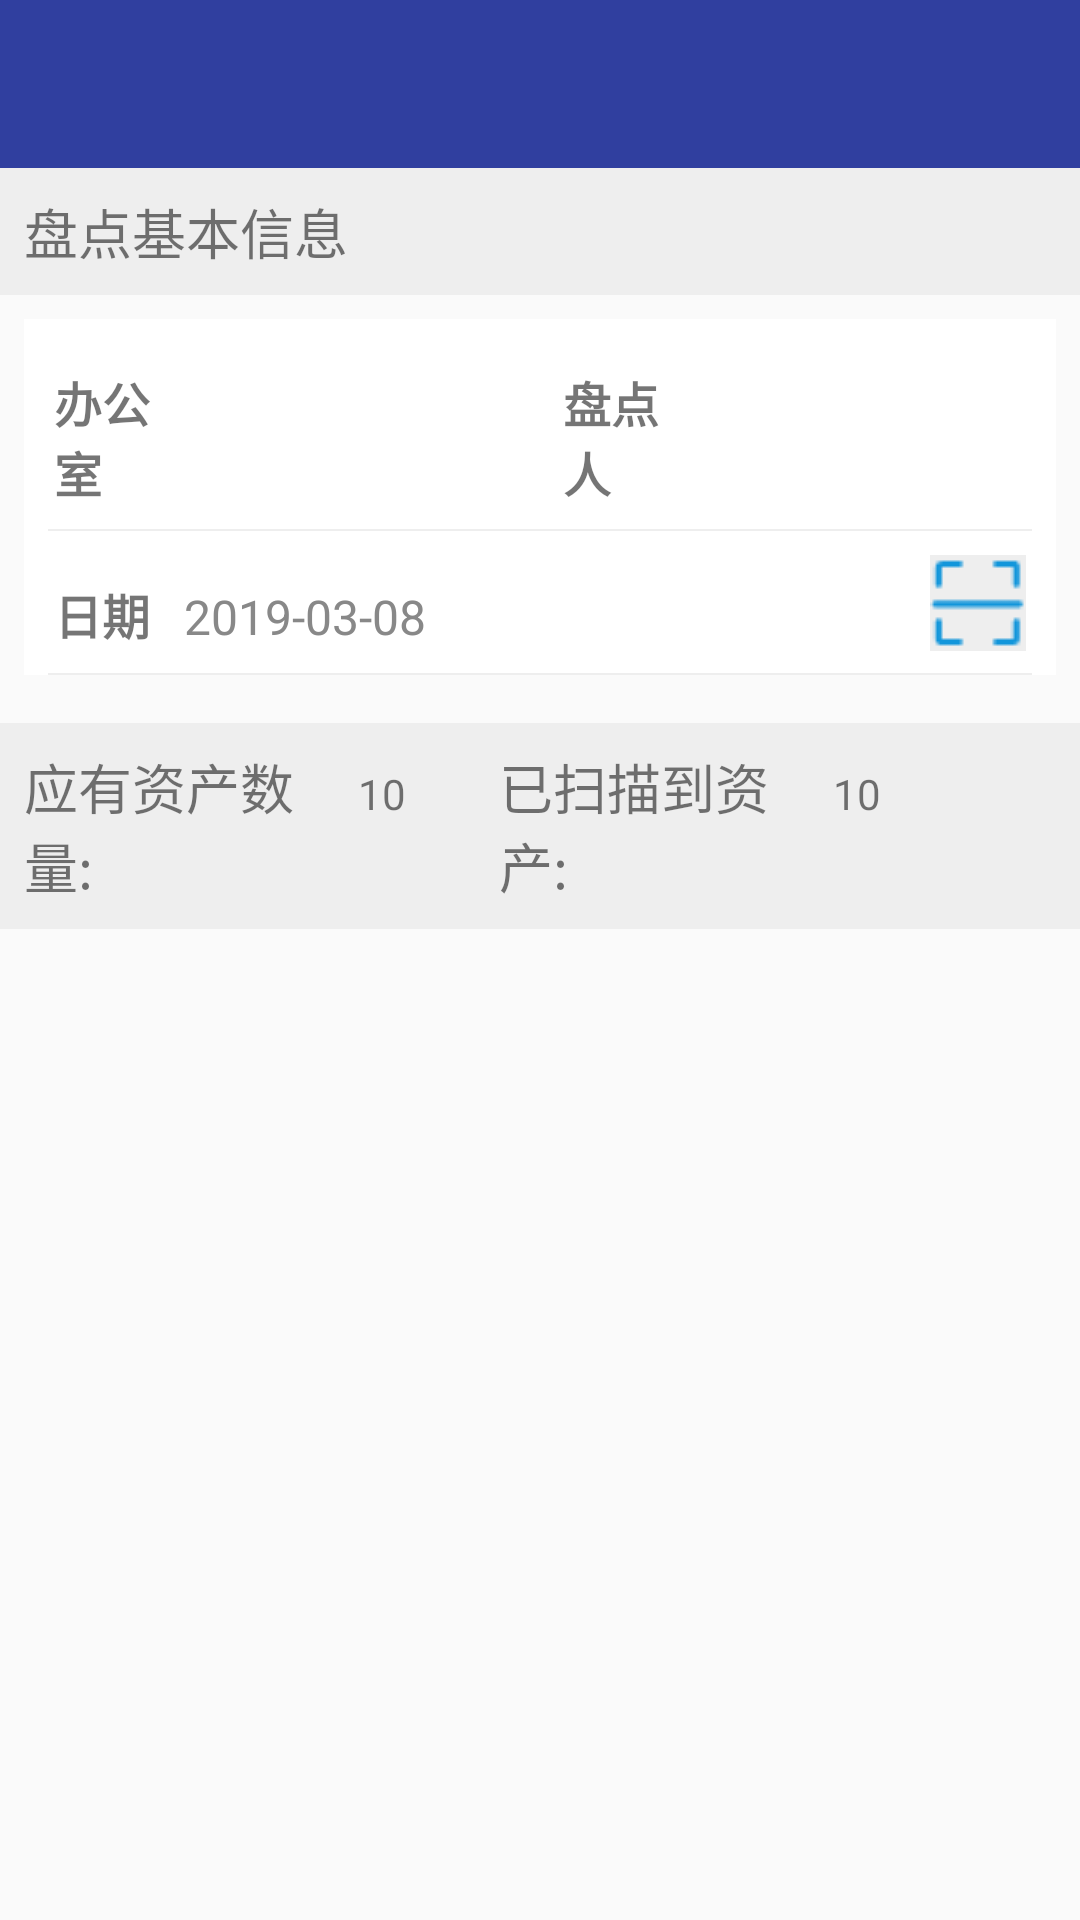

Icons on this 1080px×1920px Android screen, each with the point to tap as (x,y):
开始扫描: (978,603)
